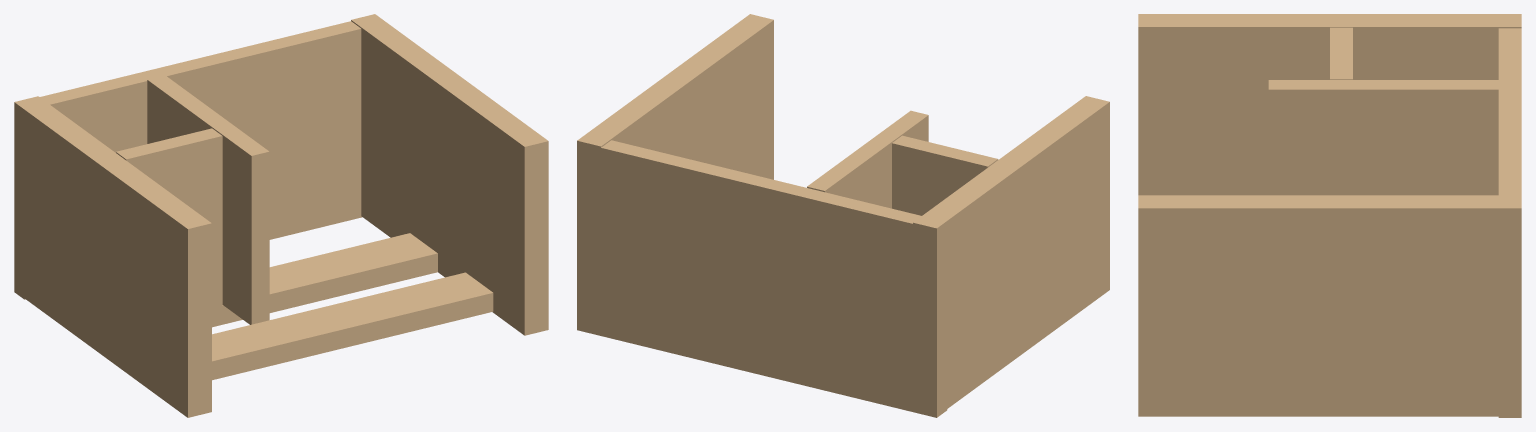
File: tinker.obj
The picture shows the model from 3 angles, left to right: view 1: azimuth 30°, elevation 25°; view 2: azimuth 150°, elevation 25°; view 3: azimuth 270°, elevation 25°; orthographic projection. The views are drawn at different scales.
Parts seen in each view (by area): view 1: obj_0; view 2: obj_0; view 3: obj_0.
Boxes of the visible parts, bbox=[...] form: obj_0: bbox=[14, 14, 548, 417]; obj_0: bbox=[577, 14, 1109, 417]; obj_0: bbox=[1138, 14, 1521, 417].
Size of the model in its own units: 300 by 151 by 250.
